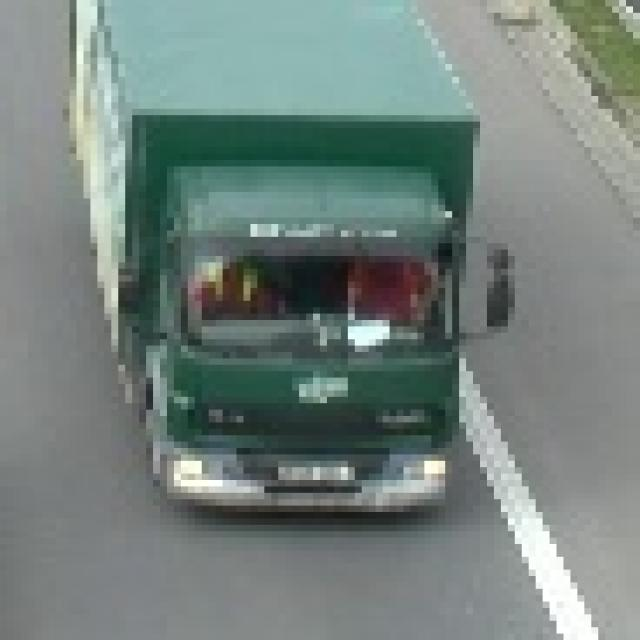truck: (56, 0, 514, 525)
